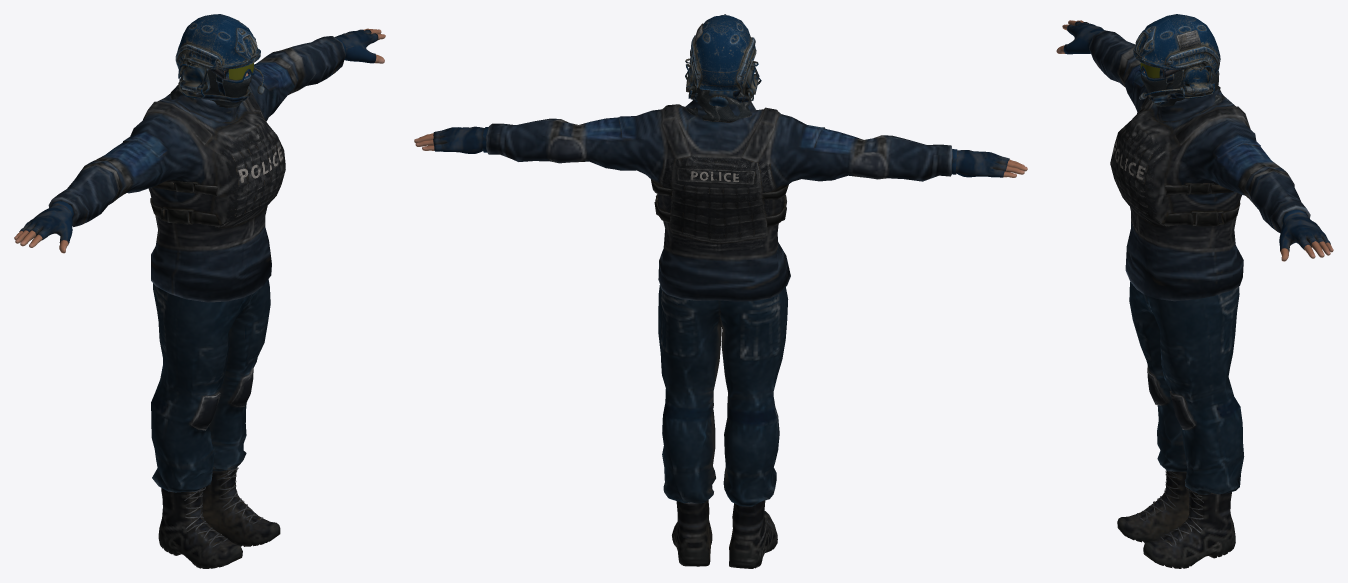
Rendered from swat.glb.
3 views of the same model, side by side, from view 1: azimuth 30°, elevation 25°; view 2: azimuth 150°, elevation 25°; view 3: azimuth 270°, elevation 25° (orthographic).
Parts seen in each view (by area): view 1: Special Force SWAT police_Special Force SWAT police_TEXTURE.; view 2: Special Force SWAT police_Special Force SWAT police_TEXTURE.; view 3: Special Force SWAT police_Special Force SWAT police_TEXTURE..
Part boxes in pixels (box(x1,y1,x2,y2)): Special Force SWAT police_Special Force SWAT police_TEXTURE.: box(14, 14, 385, 568); Special Force SWAT police_Special Force SWAT police_TEXTURE.: box(414, 14, 1027, 568); Special Force SWAT police_Special Force SWAT police_TEXTURE.: box(1056, 14, 1333, 568).
Size of the model in its own units: 1.81 by 1.89 by 0.8936.
1 material, 1 textured.
